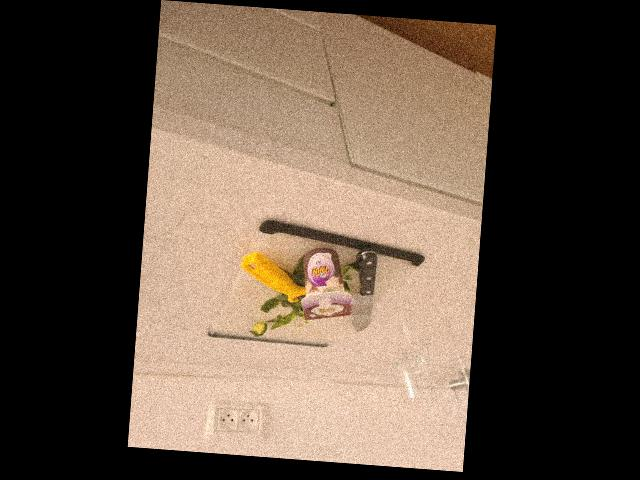milky: (298, 243, 352, 325)
